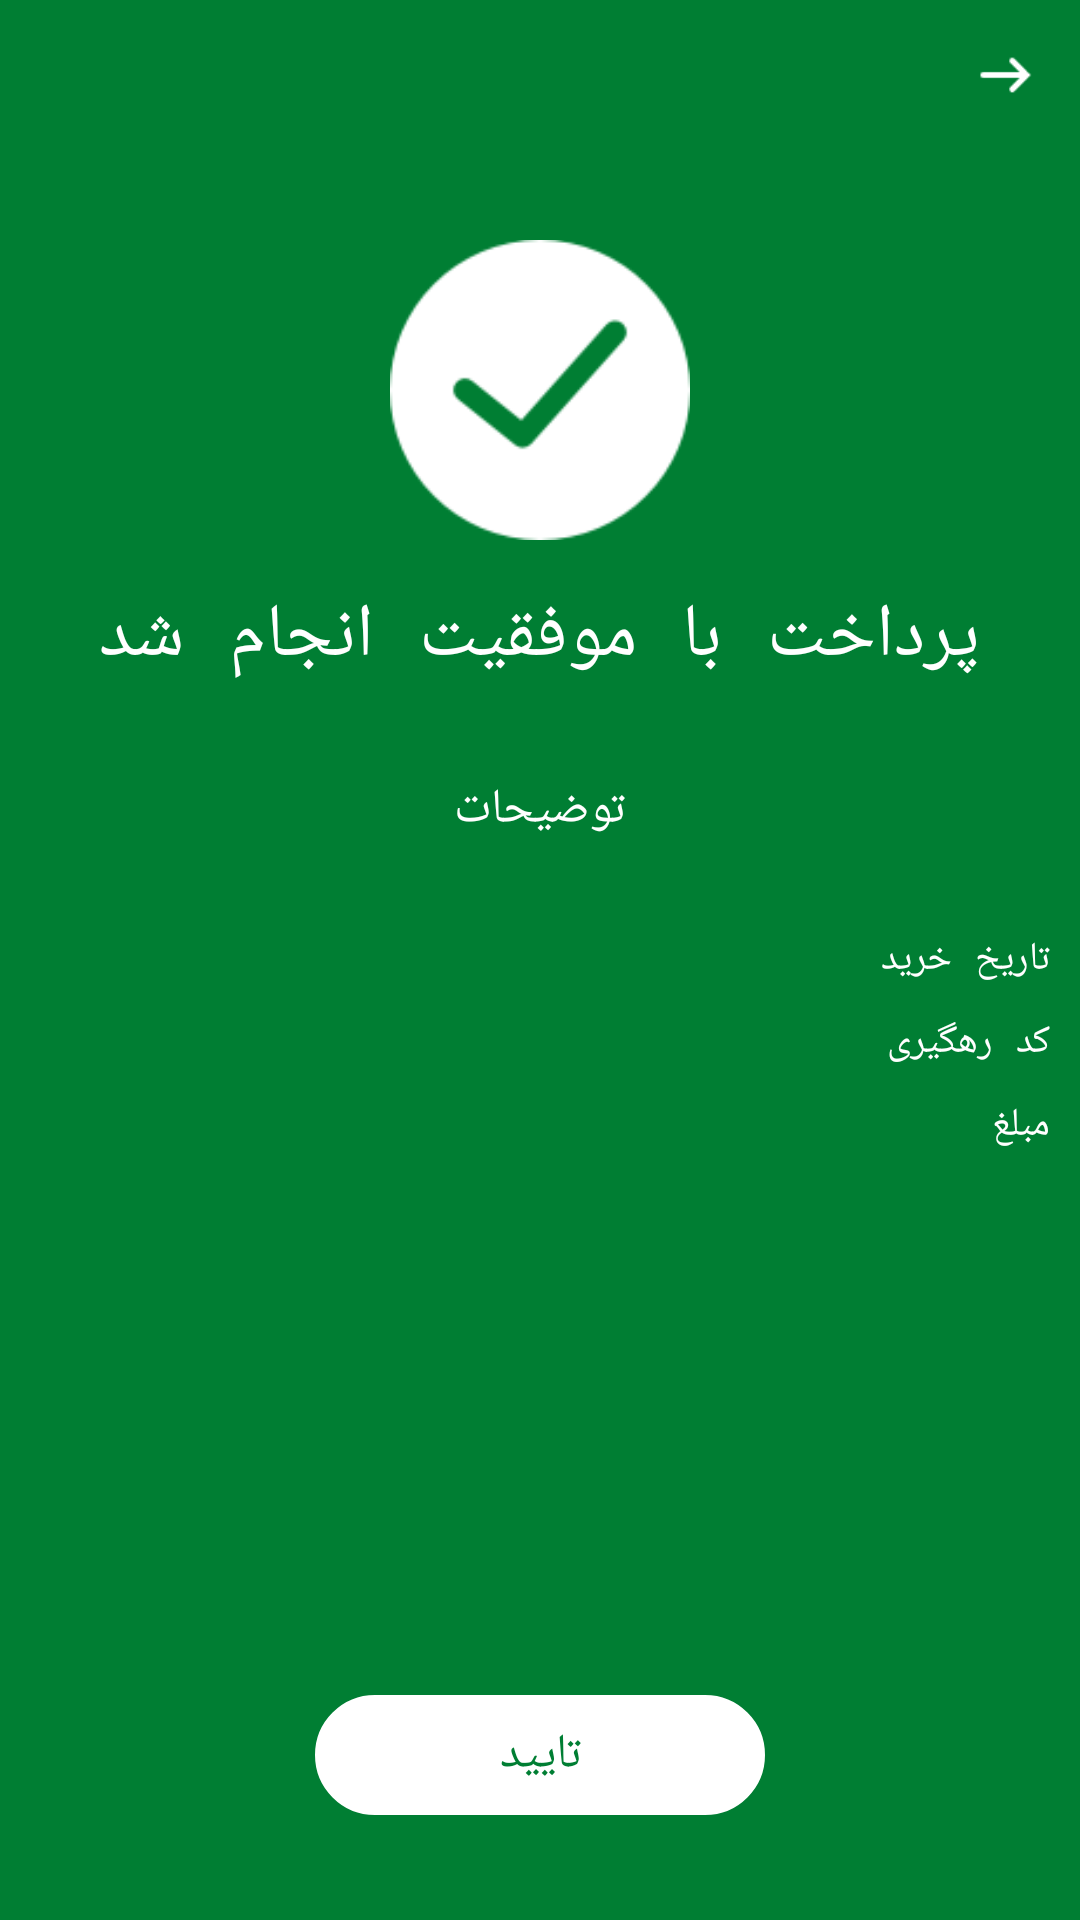

Where icons sit on this 1080px x 1920px app screen, as (x1, y1, x2, y2):
backbtn: (980, 57, 1031, 93)
